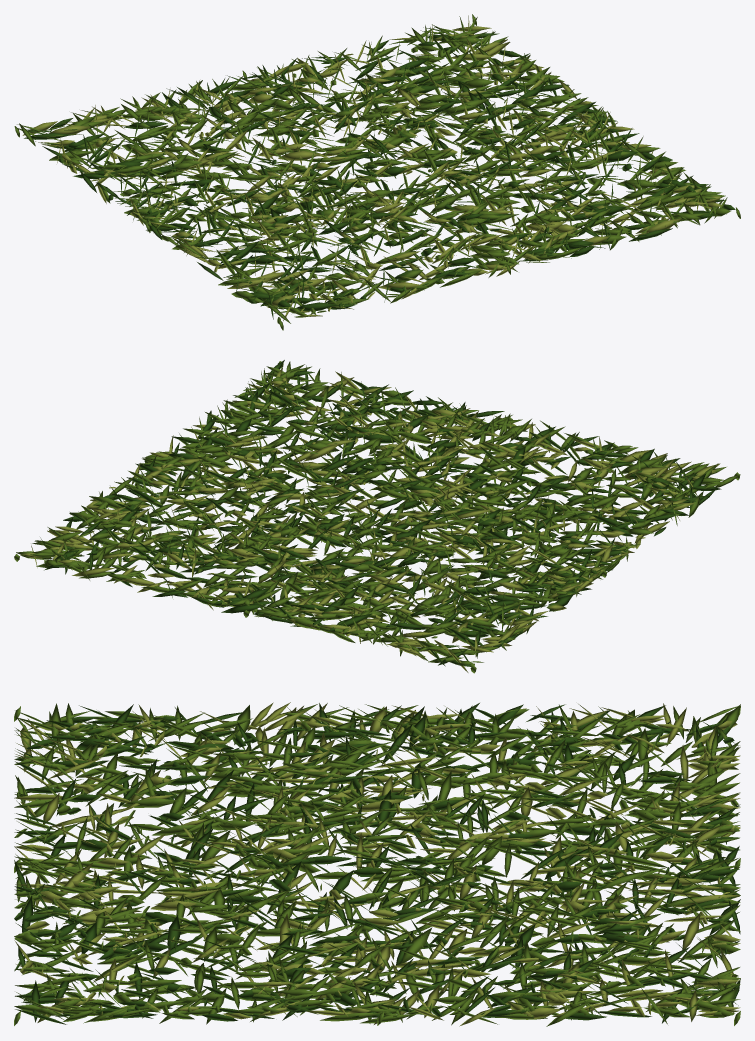
Rendered from MV_Grass_Lawn_4x4m.fbx.
3 views of the same model, one above another, from view 1: azimuth 30°, elevation 25°; view 2: azimuth 150°, elevation 25°; view 3: azimuth 270°, elevation 25° (orthographic). The views are drawn at different scales.
Parts seen in each view (by area): view 1: LOD0_Mesh, LOD1_Mesh, LOD2_Mesh; view 2: LOD0_Mesh, LOD1_Mesh, LOD2_Mesh; view 3: LOD0_Mesh, LOD1_Mesh, LOD2_Mesh.
Boxes of the visible parts, <box> form: LOD0_Mesh: <box>14,14,740,329</box>; LOD1_Mesh: <box>15,14,740,330</box>; LOD2_Mesh: <box>15,14,740,329</box>; LOD0_Mesh: <box>16,360,740,673</box>; LOD1_Mesh: <box>16,361,739,672</box>; LOD2_Mesh: <box>14,361,740,672</box>; LOD0_Mesh: <box>14,702,740,1025</box>; LOD1_Mesh: <box>14,703,740,1026</box>; LOD2_Mesh: <box>14,703,740,1025</box>.
Size of the model in its own units: 4 by 0.108 by 4.
